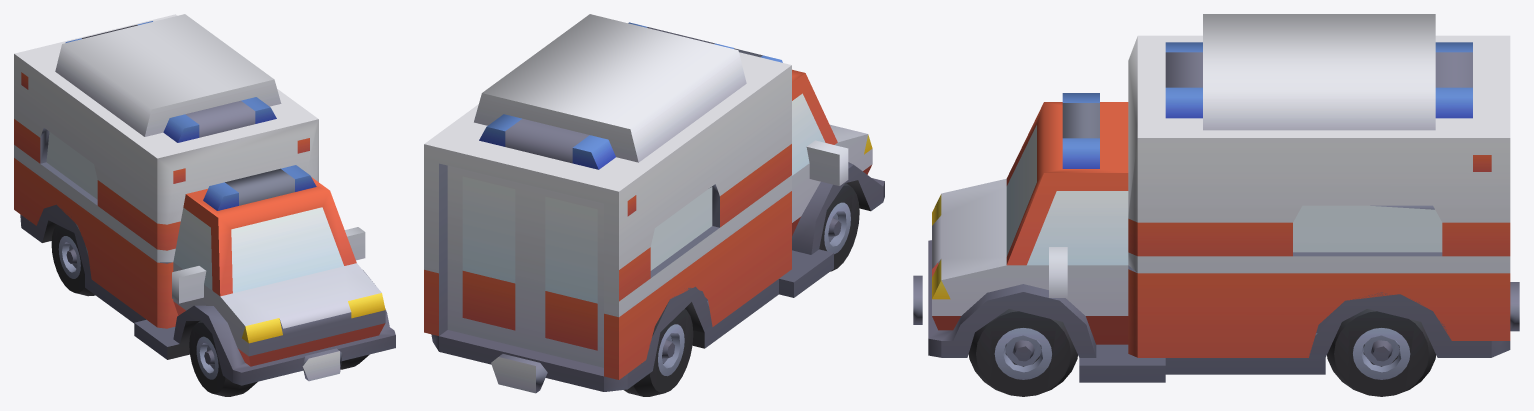
Rendered from 021_car-kit_ambulance_card.glb.
The picture shows the model from 3 angles, left to right: view 1: azimuth 30°, elevation 25°; view 2: azimuth 150°, elevation 25°; view 3: azimuth 270°, elevation 25°; orthographic projection. The views are drawn at different scales.
Visible parts, largest first — view 1: body, wheel-front-right, wheel-back-right; view 2: body, door-left, door-right, wheel-back-right, wheel-front-right; view 3: body, wheel-back-left, wheel-front-left.
Part boxes in pixels (x1,y1,x2,y2): body: (14, 14, 395, 385); wheel-front-right: (189, 320, 257, 396); wheel-back-right: (51, 224, 95, 296); body: (424, 14, 884, 393); door-left: (447, 165, 530, 349); door-right: (530, 186, 603, 367); wheel-back-right: (624, 309, 693, 396); wheel-front-right: (819, 183, 859, 271); body: (913, 14, 1519, 382); wheel-back-left: (1327, 309, 1435, 396); wheel-front-left: (968, 309, 1077, 396).
Size of the model in its own units: 1.5 by 1.8 by 3.25.
1 material, 1 textured.
